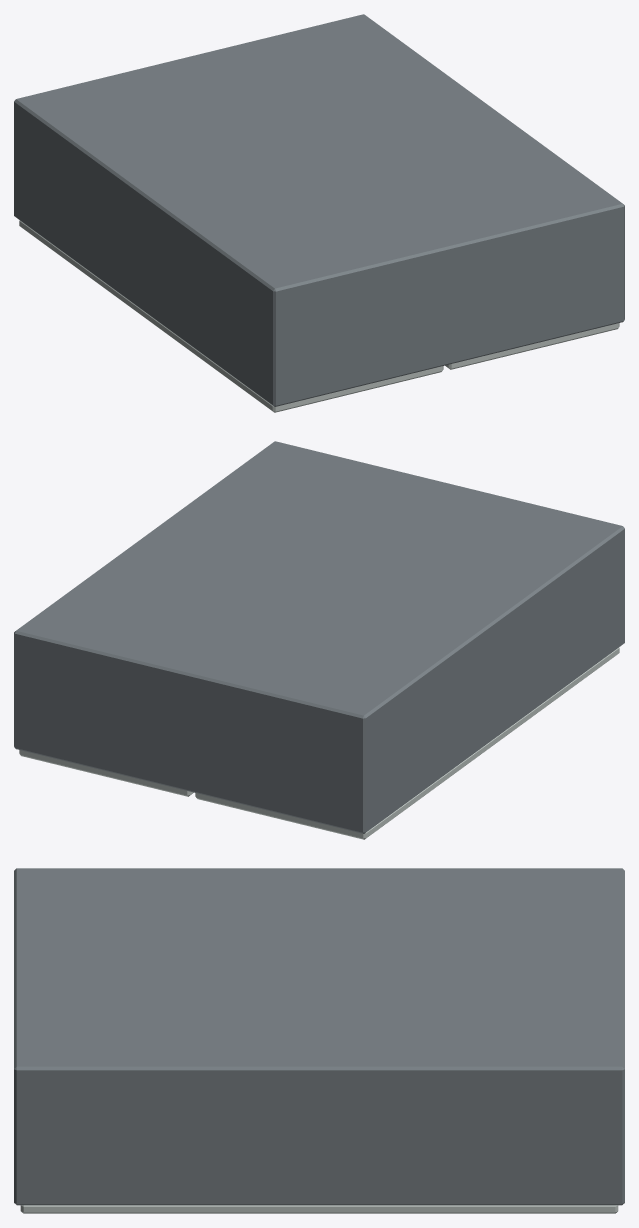
The model's file is FallenArchiveCabinet.fbx.
3 views of the same model, one above another, from view 1: azimuth 30°, elevation 25°; view 2: azimuth 150°, elevation 25°; view 3: azimuth 270°, elevation 25° (orthographic). The views are drawn at different scales.
Parts seen in each view (by area): view 1: FallenArchiveCabinet; view 2: FallenArchiveCabinet; view 3: FallenArchiveCabinet.
Boxes of the visible parts, x1,y1,x2,y2 form: FallenArchiveCabinet: (14, 14, 624, 412); FallenArchiveCabinet: (14, 441, 624, 839); FallenArchiveCabinet: (14, 868, 624, 1213).
Bounding box in the file's own units: 140 × 51.25 × 180.
1 material, 1 textured.
